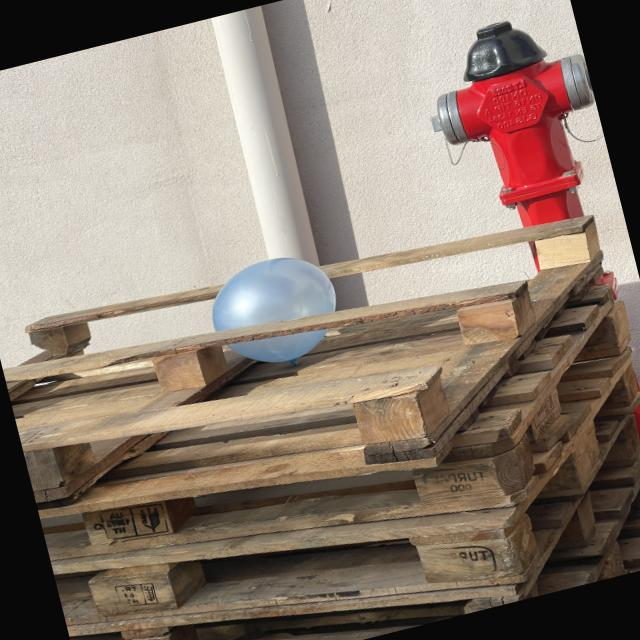balloon: (212, 257, 336, 330), (229, 329, 326, 364)
